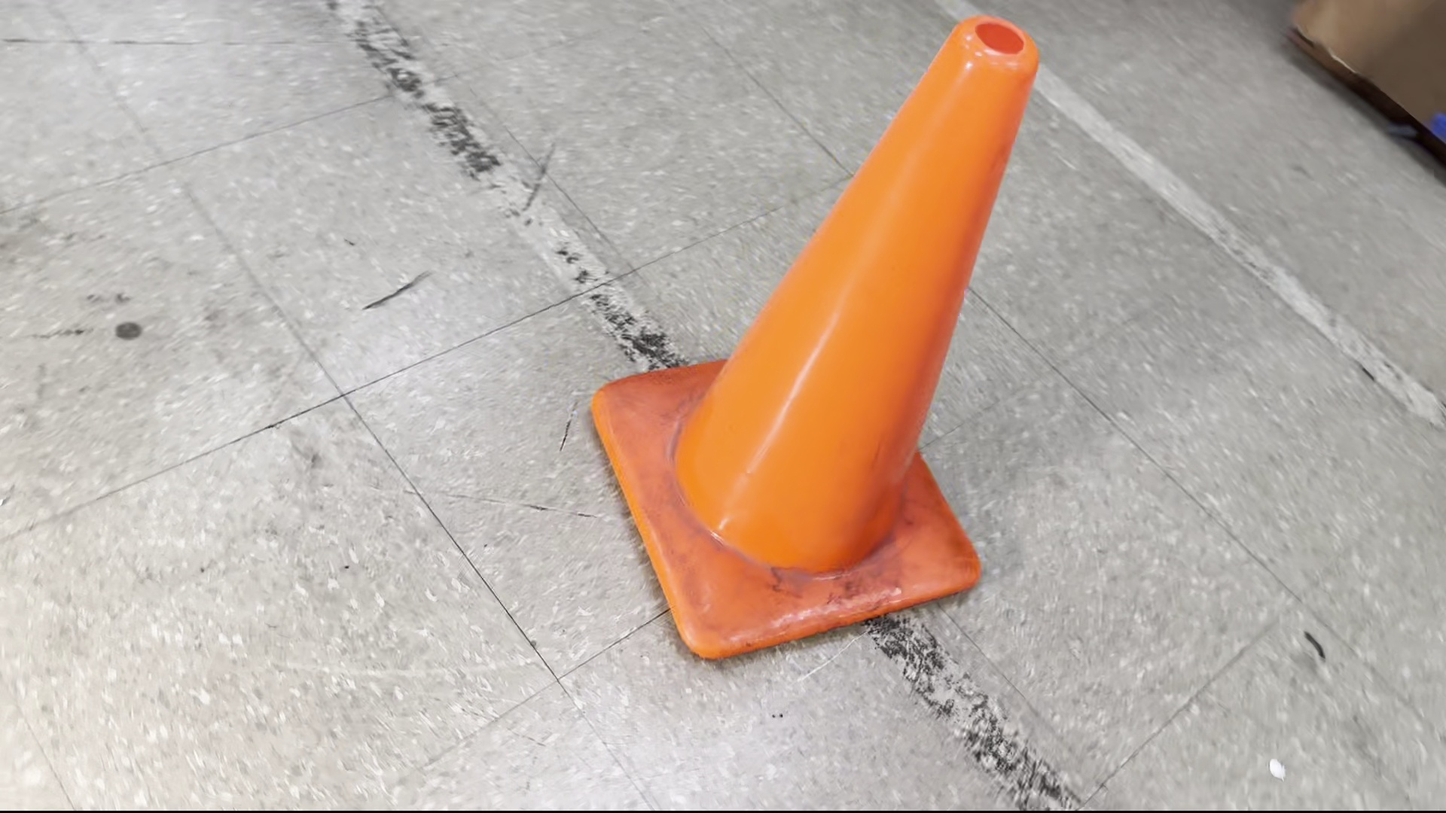traffic_cone: (588, 14, 1041, 661)
